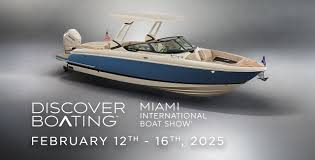boat: (55, 9, 270, 98)
